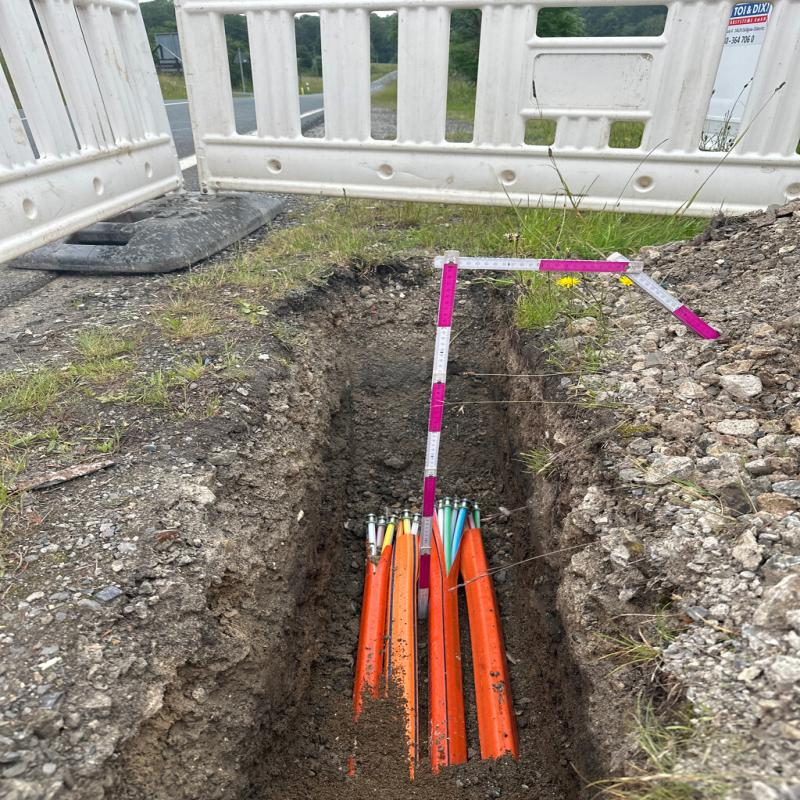Orang-Speednetrohrchen: (360, 495, 519, 771)
